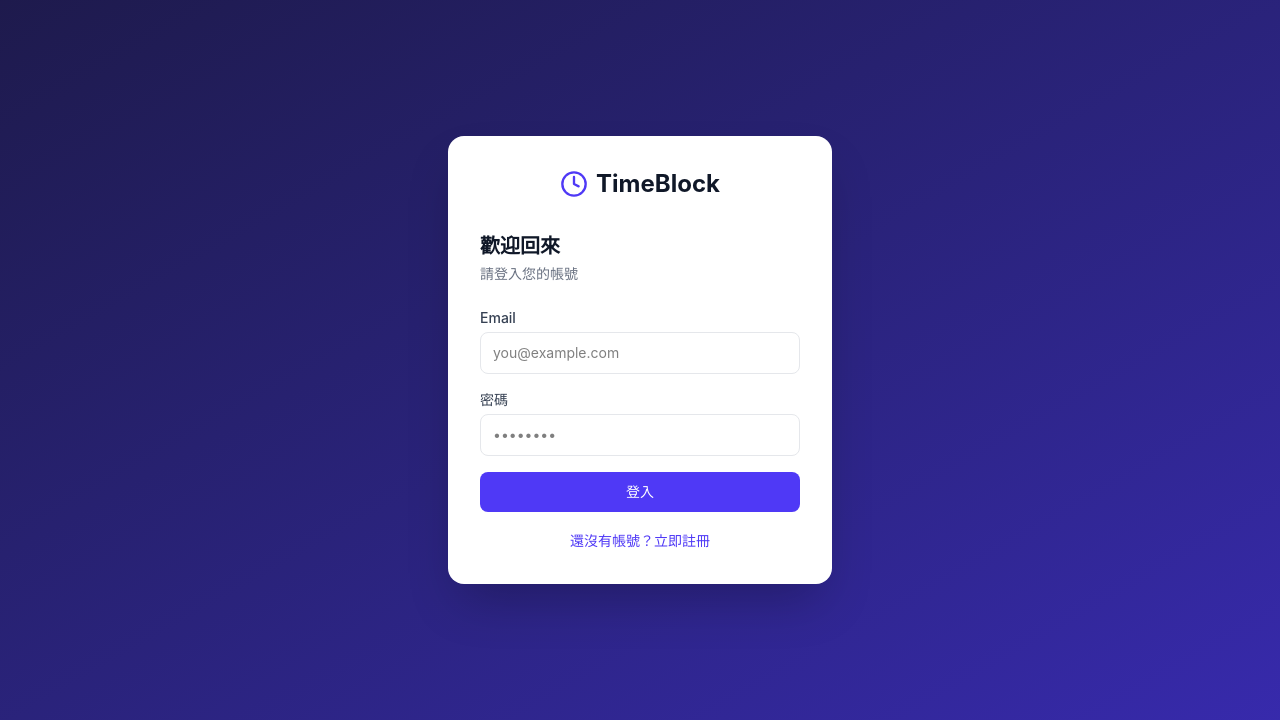
LoginPage › 網路異常時顯示通用錯誤訊息
In the field with placeholder "you@example.com": point(640, 353) [480,332,800,374], type "user@test.com"
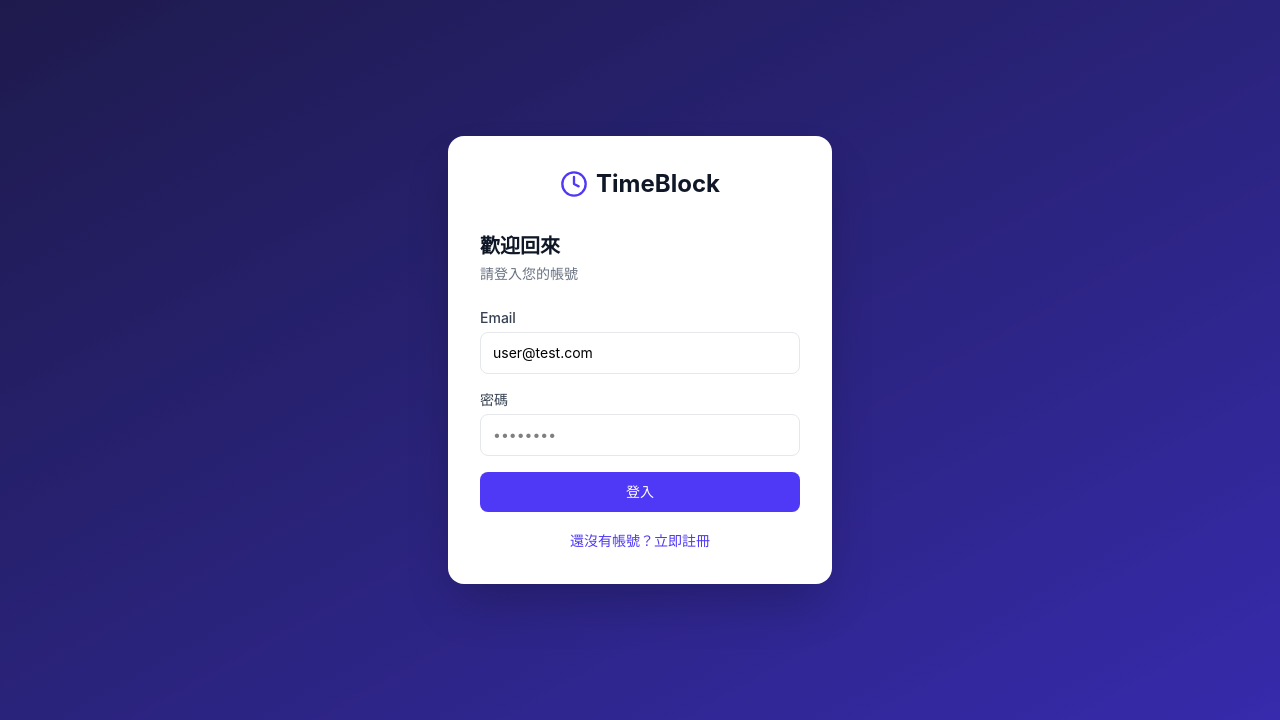
In the password field with placeholder "••••••••": point(640, 435) [480,414,800,456], type "password"
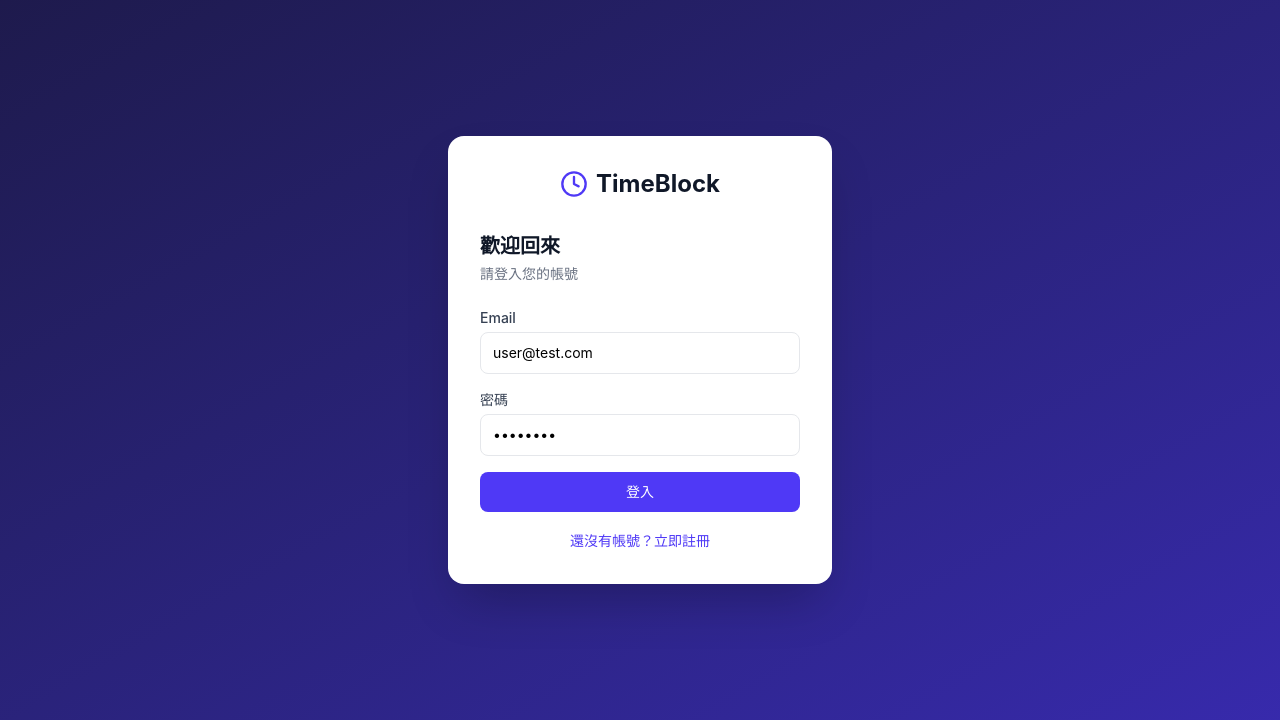
Submit the form "登入", box [480,308,800,512]
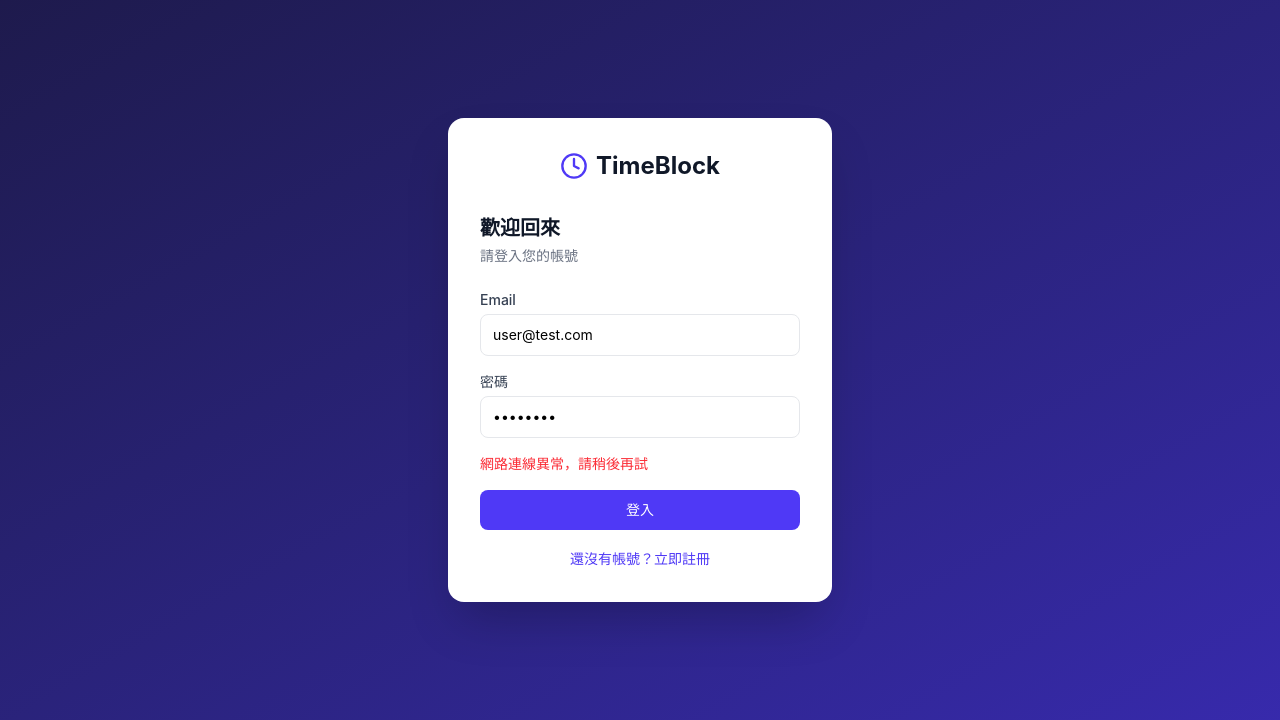
Check: the text "網路連線異常，請稍後再試" is shown, box [480,455,648,472]
